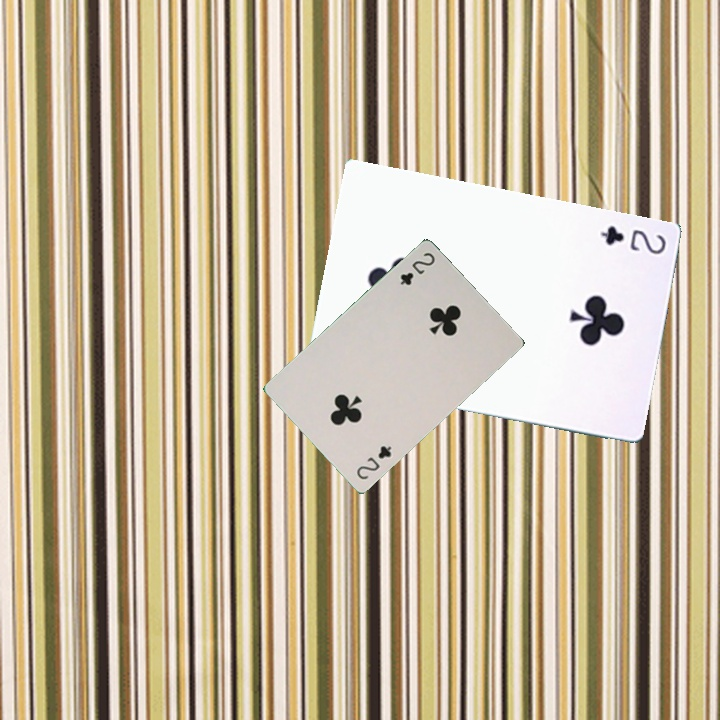2c: (596, 222, 669, 257), (352, 442, 394, 482), (396, 248, 438, 288)
